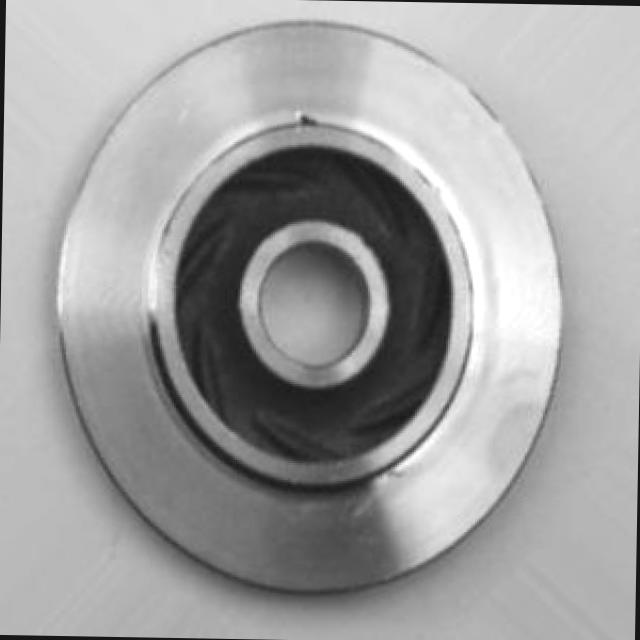Defect: (294, 110, 326, 130)
